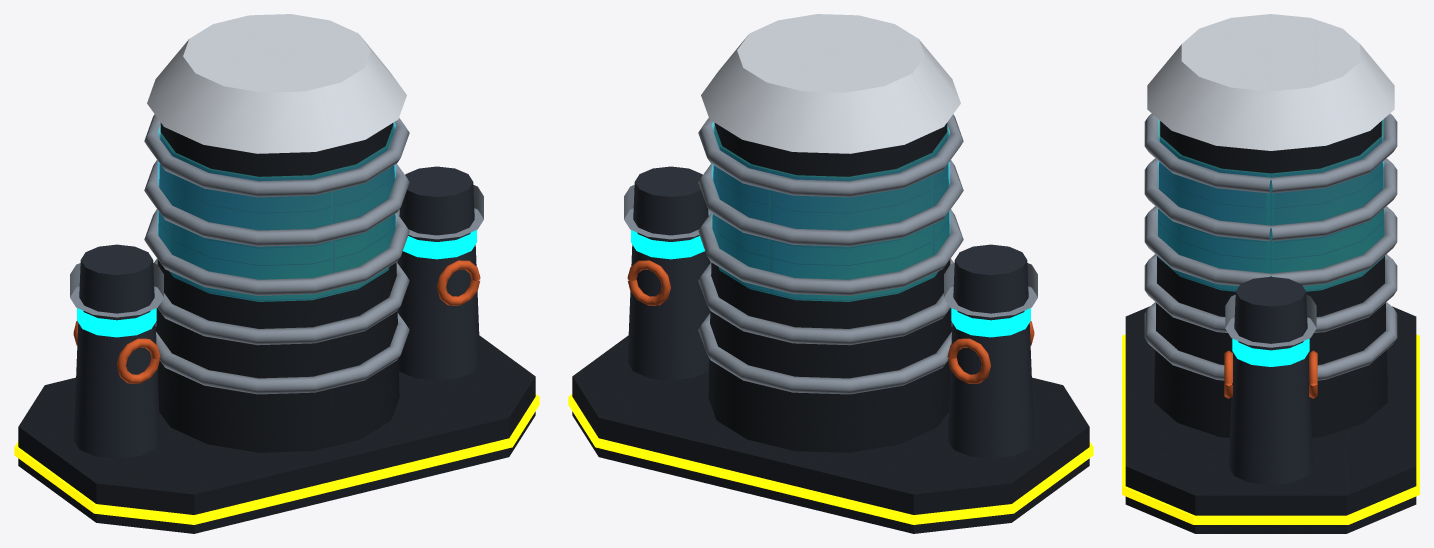
Rendered from prop_set_03_scrubber_vent_bollard.glb.
3 views of the same model, side by side, from view 1: azimuth 30°, elevation 25°; view 2: azimuth 150°, elevation 25°; view 3: azimuth 270°, elevation 25° (orthographic). The views are drawn at different scales.
Parts seen in each view (by area): view 1: Prop03_gunmetal, Prop03_aero_white, Prop03_carbon_slate, Prop03_steel_machined, Prop03_glass_cyan, Prop03_led_amber, Prop03_led_cyan, Prop03_accent_orange; view 2: Prop03_gunmetal, Prop03_aero_white, Prop03_carbon_slate, Prop03_steel_machined, Prop03_glass_cyan, Prop03_led_amber, Prop03_led_cyan, Prop03_accent_orange; view 3: Prop03_gunmetal, Prop03_aero_white, Prop03_steel_machined, Prop03_glass_cyan, Prop03_carbon_slate, Prop03_led_amber, Prop03_led_cyan, Prop03_accent_orange.
Part boxes in pixels (<box>): Prop03_gunmetal: <box>18,123,535,533</box>; Prop03_aero_white: <box>147,14,406,153</box>; Prop03_carbon_slate: <box>73,166,480,458</box>; Prop03_steel_machined: <box>70,114,483,394</box>; Prop03_glass_cyan: <box>157,122,396,301</box>; Prop03_led_amber: <box>14,394,539,524</box>; Prop03_led_cyan: <box>77,230,476,337</box>; Prop03_accent_orange: <box>73,260,480,383</box>; Prop03_gunmetal: <box>572,123,1089,533</box>; Prop03_aero_white: <box>701,14,960,153</box>; Prop03_carbon_slate: <box>627,166,1034,458</box>; Prop03_steel_machined: <box>624,114,1037,394</box>; Prop03_glass_cyan: <box>711,122,950,301</box>; Prop03_led_amber: <box>568,394,1093,524</box>; Prop03_led_cyan: <box>631,230,1030,337</box>; Prop03_accent_orange: <box>627,260,1034,383</box>; Prop03_gunmetal: <box>1125,121,1416,533</box>; Prop03_aero_white: <box>1147,14,1394,150</box>; Prop03_steel_machined: <box>1144,113,1397,380</box>; Prop03_glass_cyan: <box>1157,119,1384,291</box>; Prop03_carbon_slate: <box>1229,276,1312,484</box>; Prop03_led_amber: <box>1122,334,1419,524</box>; Prop03_led_cyan: <box>1232,338,1309,366</box>; Prop03_accent_orange: <box>1224,350,1317,398</box>.
Size of the model in its own units: 2.84 by 2.36 by 1.69.
8 materials, 8 textured.
